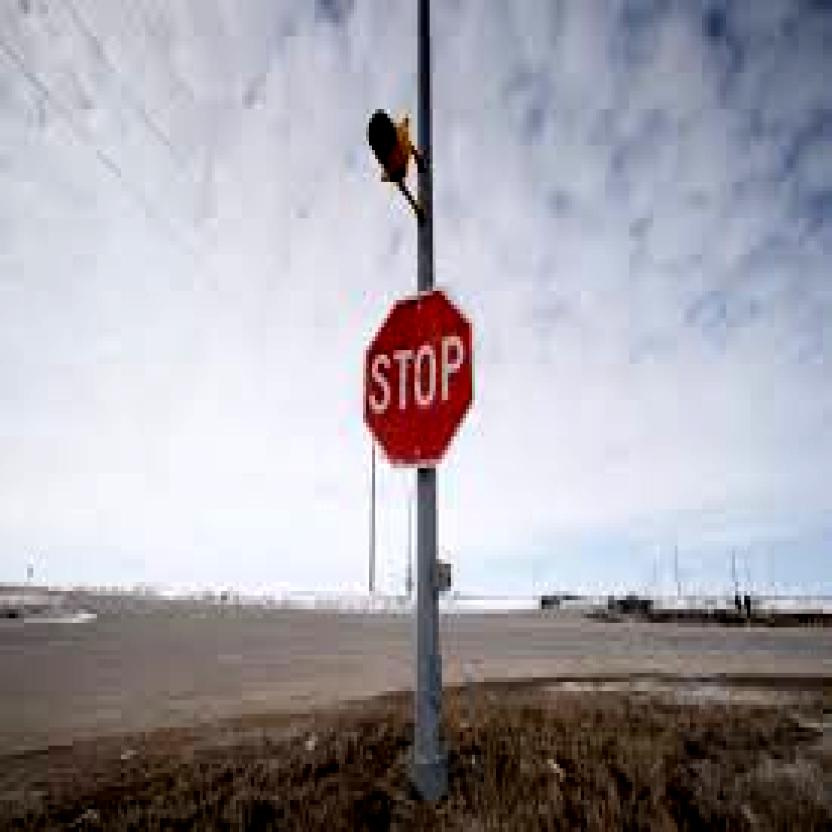Pole: (415, 470, 438, 799)
Sign: (364, 294, 475, 466)
